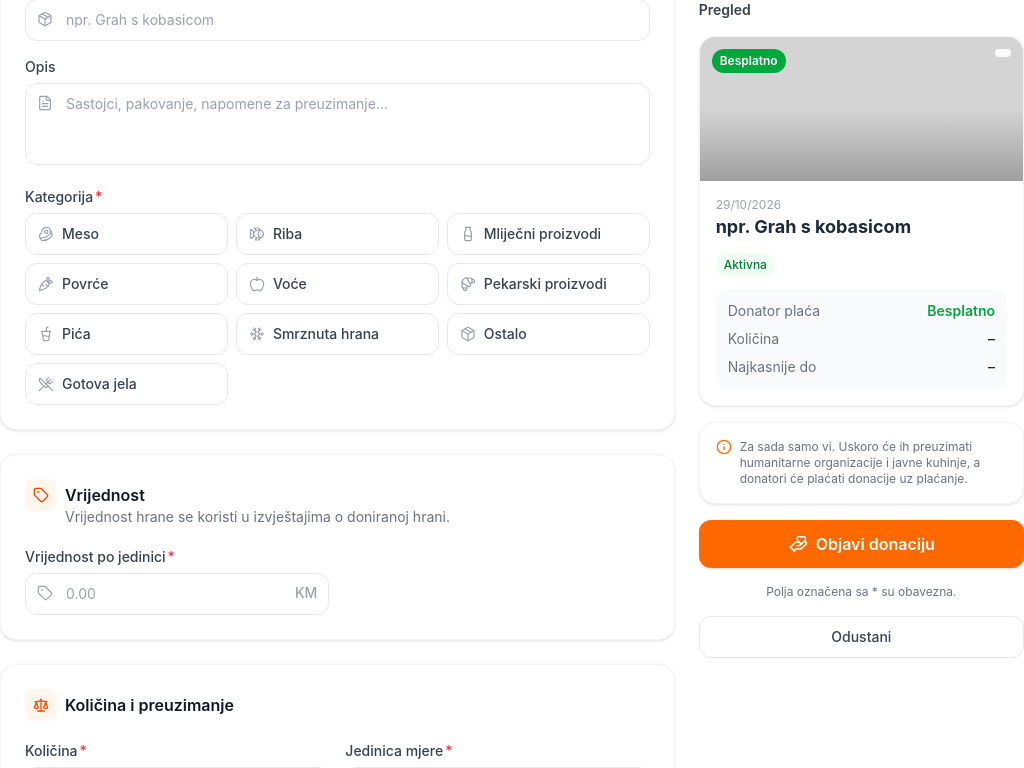
AddDonationPage › hides the meal details for other categories
(page scrolled)
Check: the text "Detalji obroka" is not shown
Click the button "Gotova jela": (126, 384) [25,363,228,405]
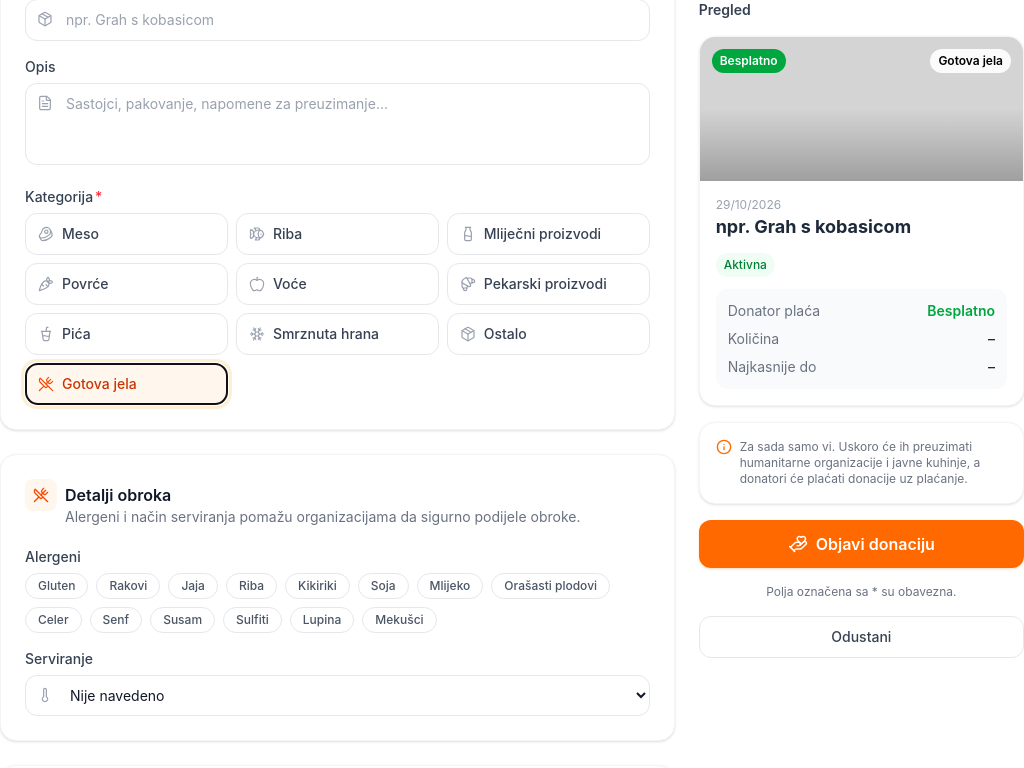
Check: the heading "Detalji obroka" is shown, box [65,485,171,505]
